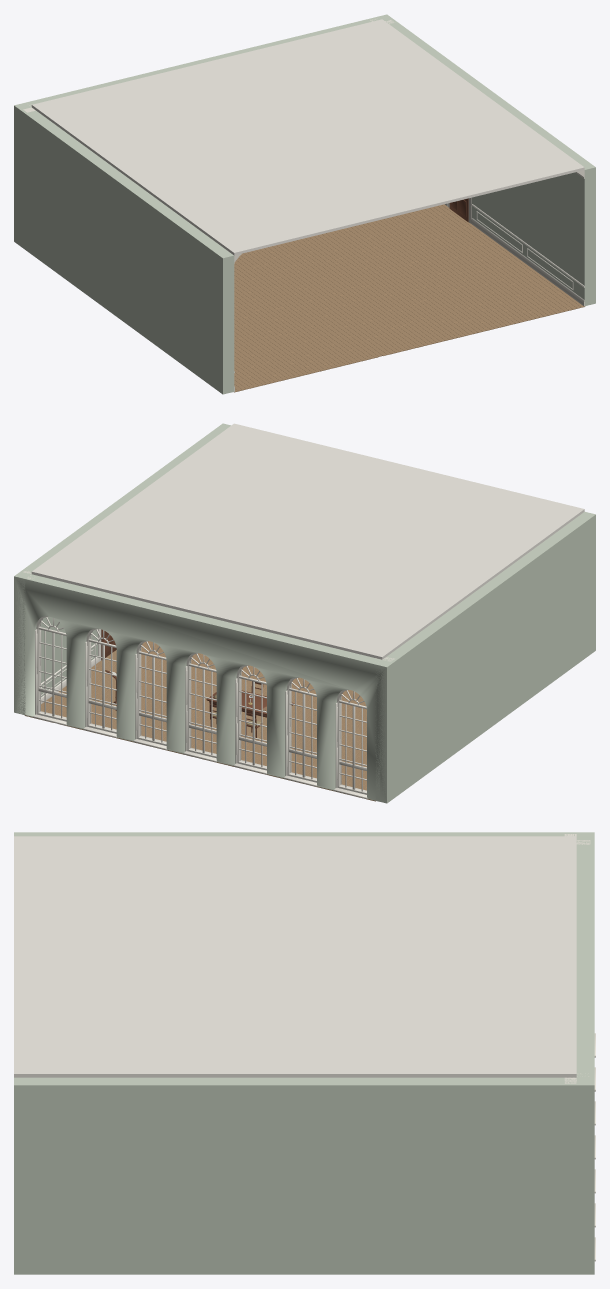
File: room-B7M5F7hU.glb
3 views of the same model, one above another, from view 1: azimuth 30°, elevation 25°; view 2: azimuth 150°, elevation 25°; view 3: azimuth 270°, elevation 25° (orthographic). The views are drawn at different scales.
Parts seen in each view (by area): view 1: ceiling, side-walls, floor, back-wall, mouldings; view 2: ceiling, side-walls, back-wall, window-joinery, floor, table; view 3: ceiling, side-walls, back-wall.
Boxes of the visible parts, bbox=[...] form: ceiling: bbox=[31, 19, 584, 255]; side-walls: bbox=[14, 14, 595, 394]; floor: bbox=[234, 204, 585, 392]; back-wall: bbox=[14, 14, 392, 245]; mouldings: bbox=[23, 18, 584, 391]; ceiling: bbox=[31, 423, 584, 659]; side-walls: bbox=[14, 423, 595, 802]; back-wall: bbox=[14, 571, 393, 803]; window-joinery: bbox=[33, 616, 367, 798]; floor: bbox=[24, 641, 375, 801]; table: bbox=[206, 690, 294, 719]; ceiling: bbox=[14, 836, 576, 1077]; side-walls: bbox=[14, 832, 594, 1274]; back-wall: bbox=[576, 832, 594, 1274].
Size of the model in its own units: 14.9 by 5.33 by 14.48.
